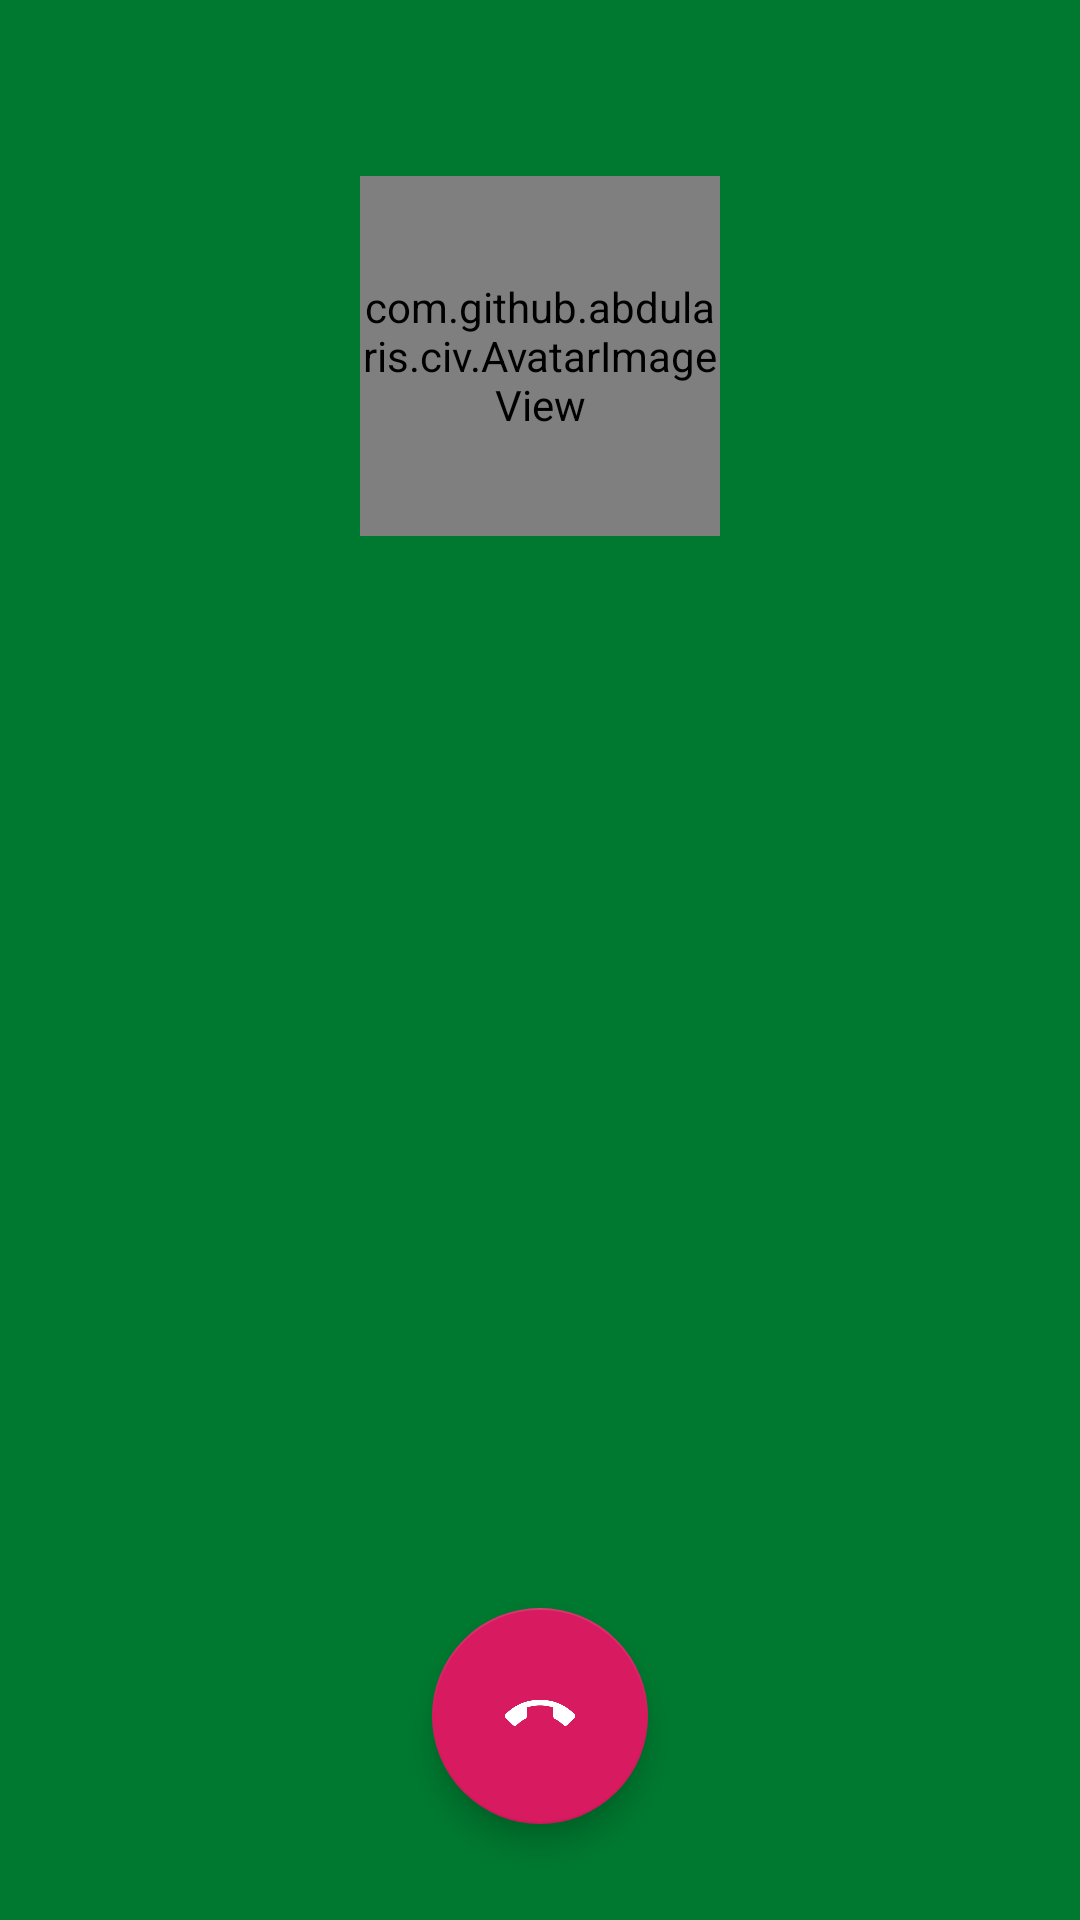

Point at icon controls on the screen. Image size 1080px x 1920px, points as [x,y].
hang up: [540,1716]
